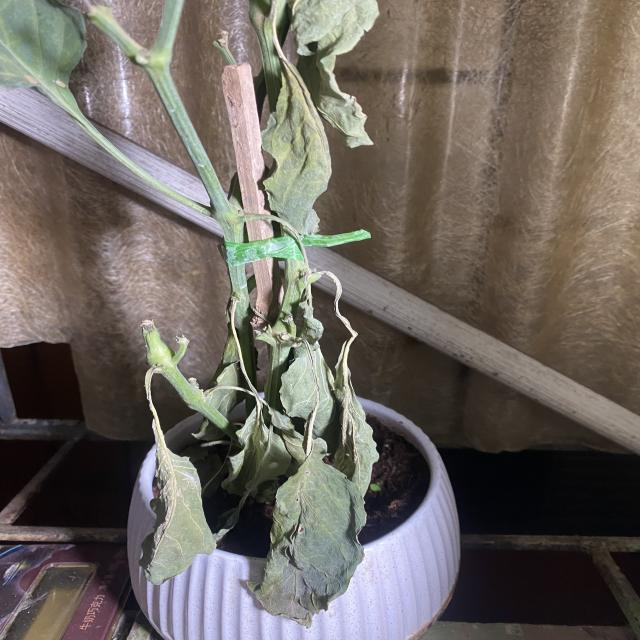Leaf: (249, 457, 367, 626), (257, 64, 333, 236), (138, 450, 218, 585)
